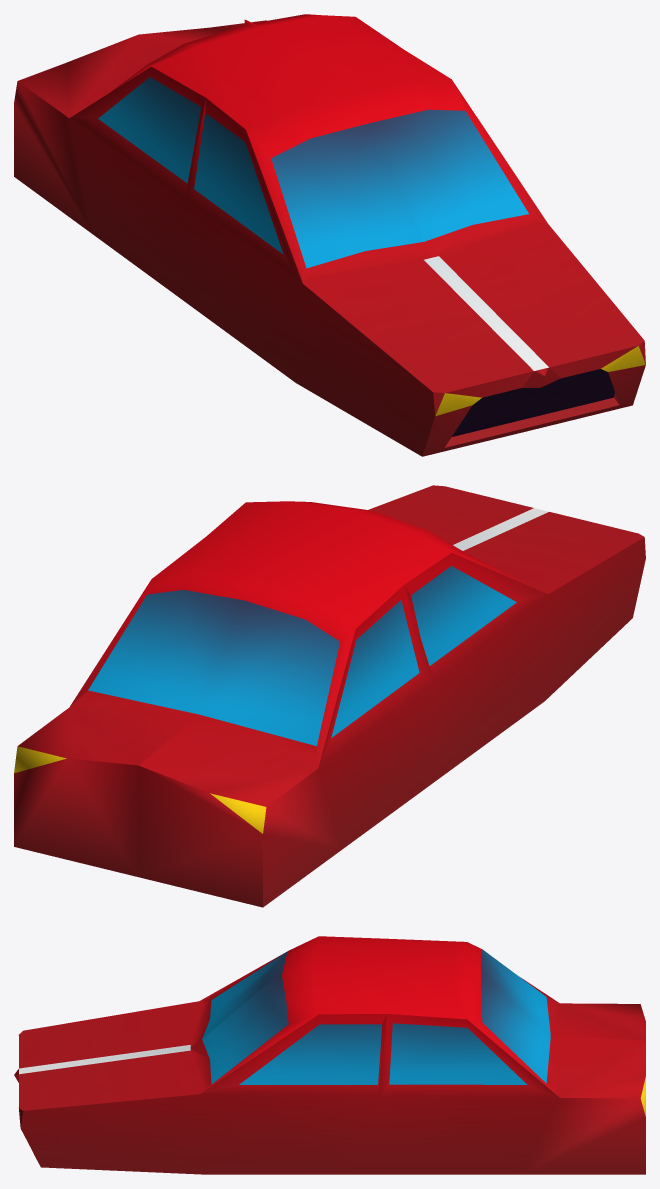
Rendered from car1.fbx.
3 views of the same model, one above another, from view 1: azimuth 30°, elevation 25°; view 2: azimuth 150°, elevation 25°; view 3: azimuth 270°, elevation 25° (orthographic). The views are drawn at different scales.
Visible parts, largest first — view 1: car1; view 2: car1; view 3: car1.
Boxes of the visible parts, x1,y1,x2,y2 form: car1: (14, 14, 645, 456); car1: (14, 485, 645, 907); car1: (14, 936, 645, 1174).
Size of the model in its own units: 66.74 by 53.56 by 189.
Materials: 1 (1 with a texture image).
